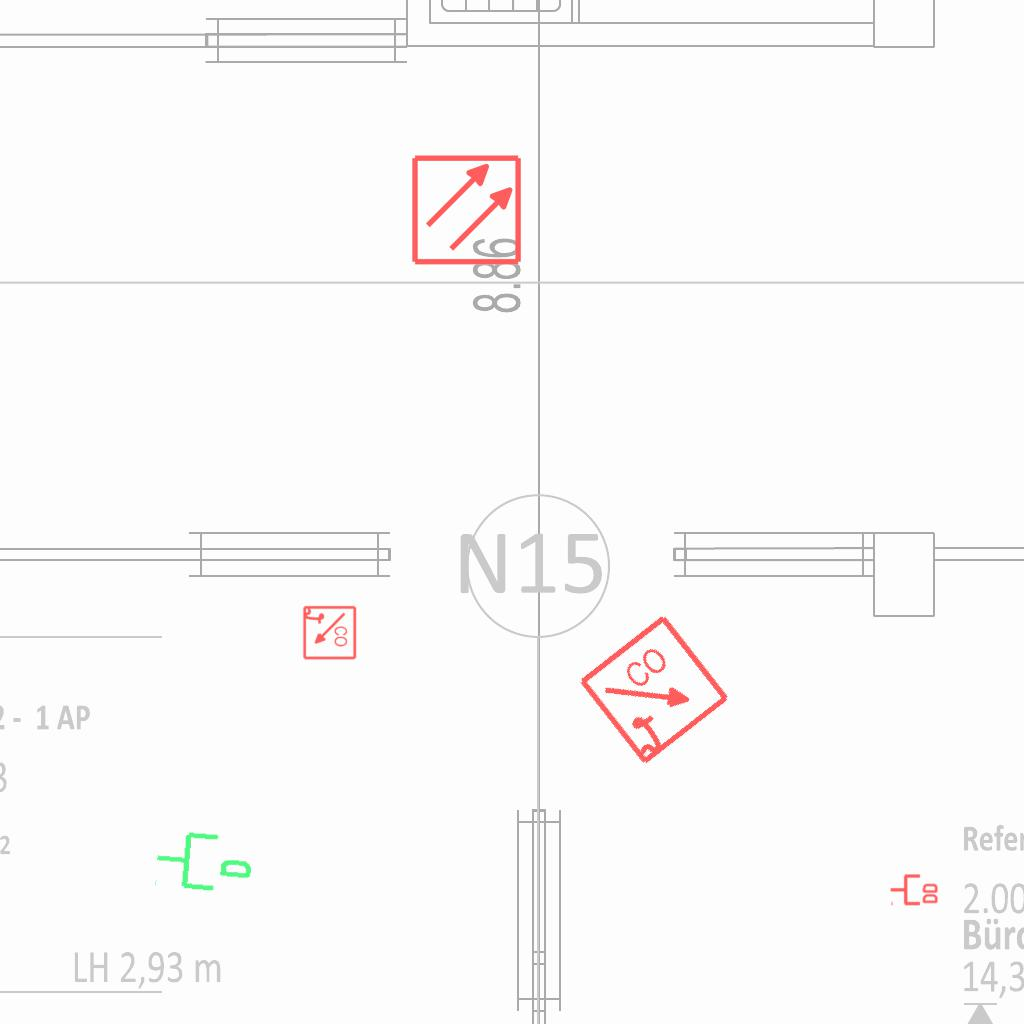Datenanschluss_einfach: (151, 821, 258, 899)
Datenanschluss_zweifach: (889, 872, 940, 906)
RMO_Rauchmelder_optischer: (410, 153, 523, 266)
ROA_Rauchmelder_optisch_mit_Signalgeber_(Sockelsirene): (576, 611, 735, 770), (301, 605, 357, 661)
